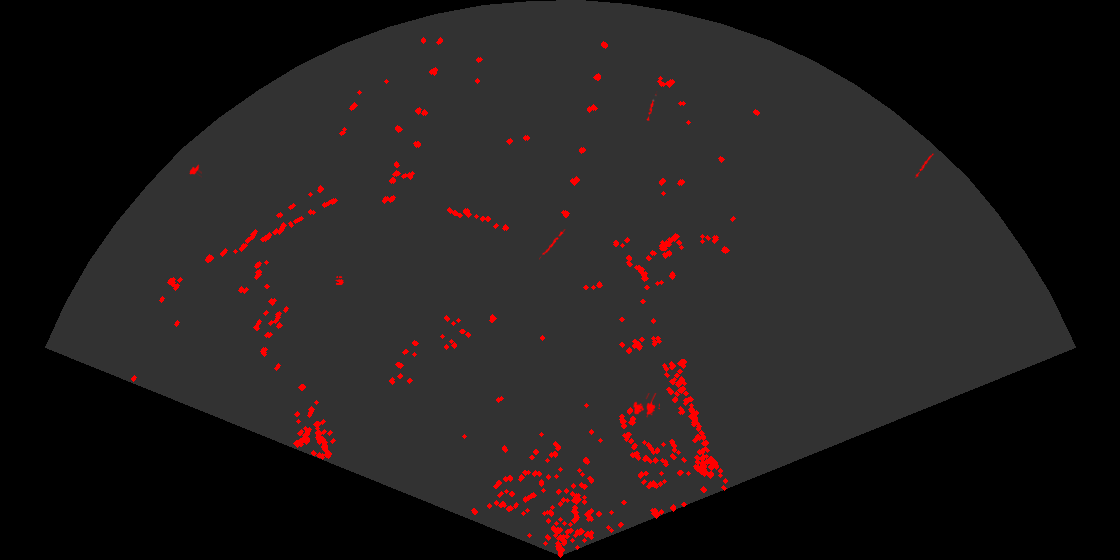AUV: (188, 163, 202, 178)
ball: (334, 274, 345, 285)
cage: (632, 393, 660, 419)
chain: (539, 229, 567, 260), (913, 152, 936, 178), (645, 91, 658, 121)
